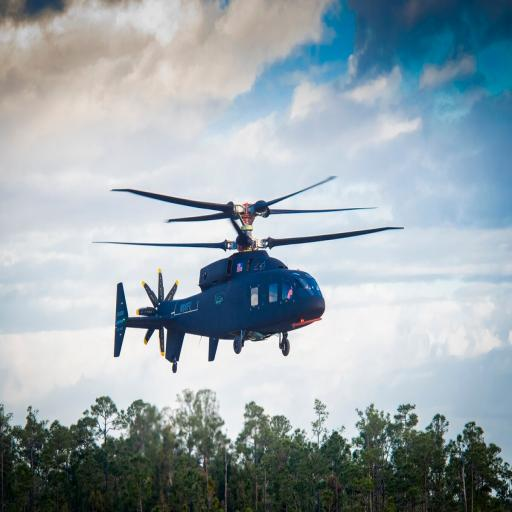helicopter: (101, 176, 405, 372)
